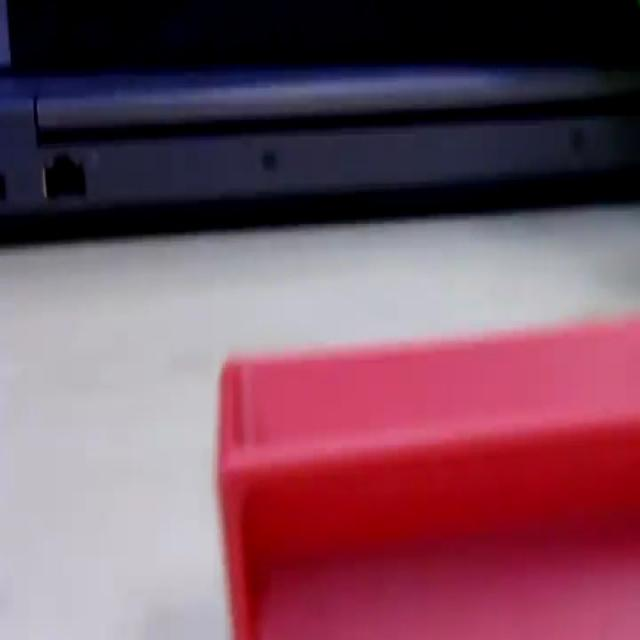red_block: (216, 312, 638, 636)
